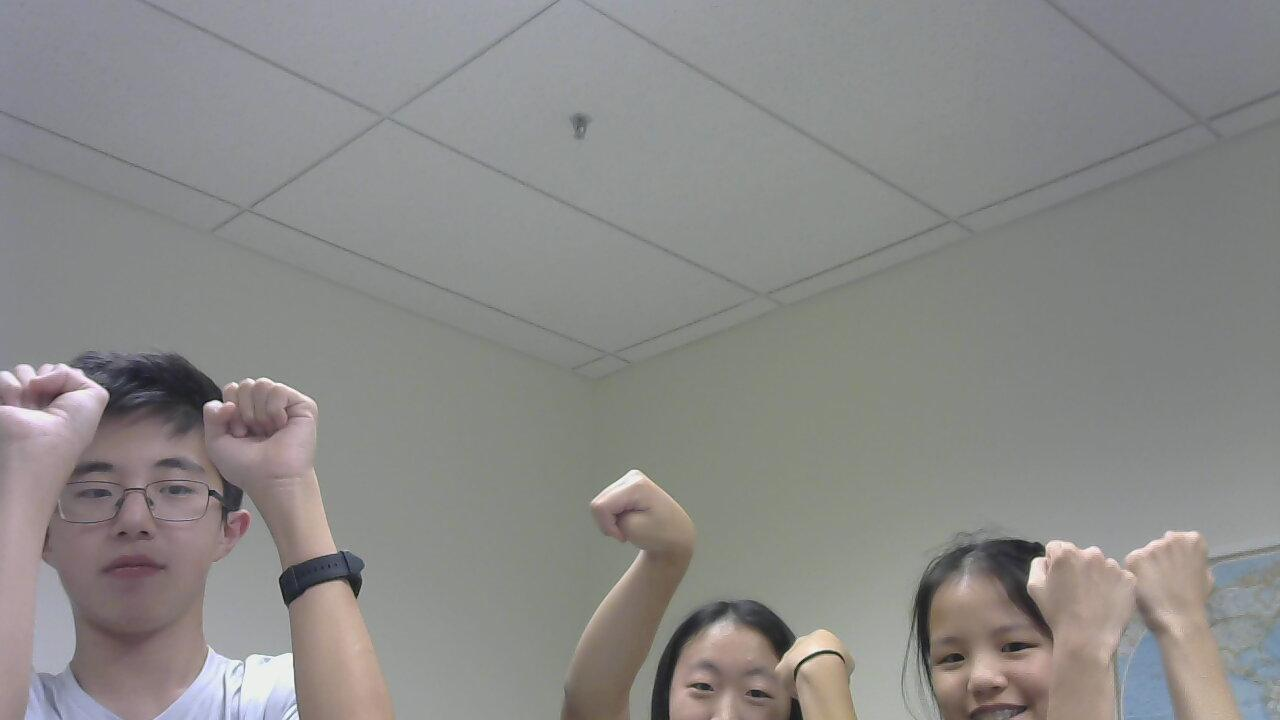fist: (1006, 537, 1160, 669), (203, 372, 344, 506), (576, 462, 715, 578), (0, 359, 119, 476)
